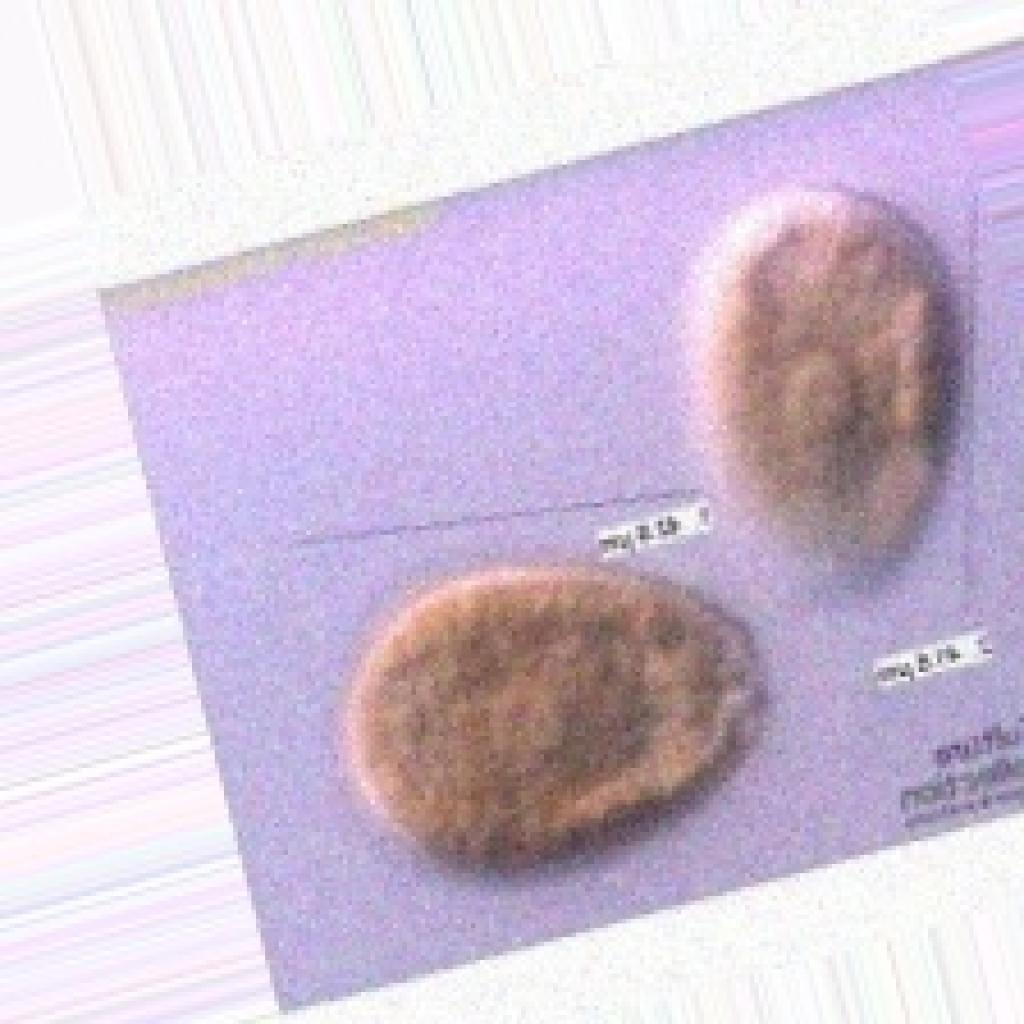Microalgae: (642, 160, 1014, 580), (338, 558, 764, 868)
